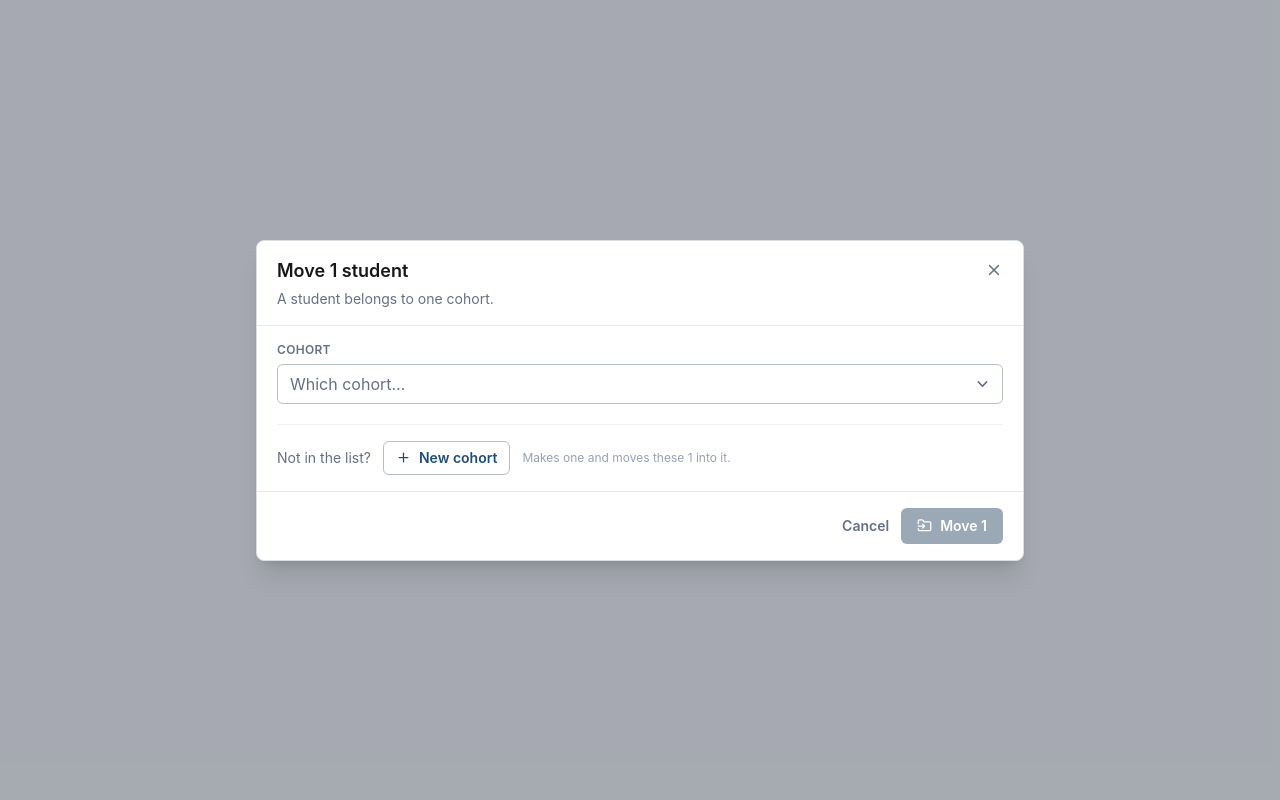
Test: moving students to another cohort › says what the move costs once a cohort with something to lose is chosen
The width and height of the screenshot is (1280, 800).
Step 1. Click the dropdown named "Move to cohort" → click(348, 384), box [277,364,1003,404]
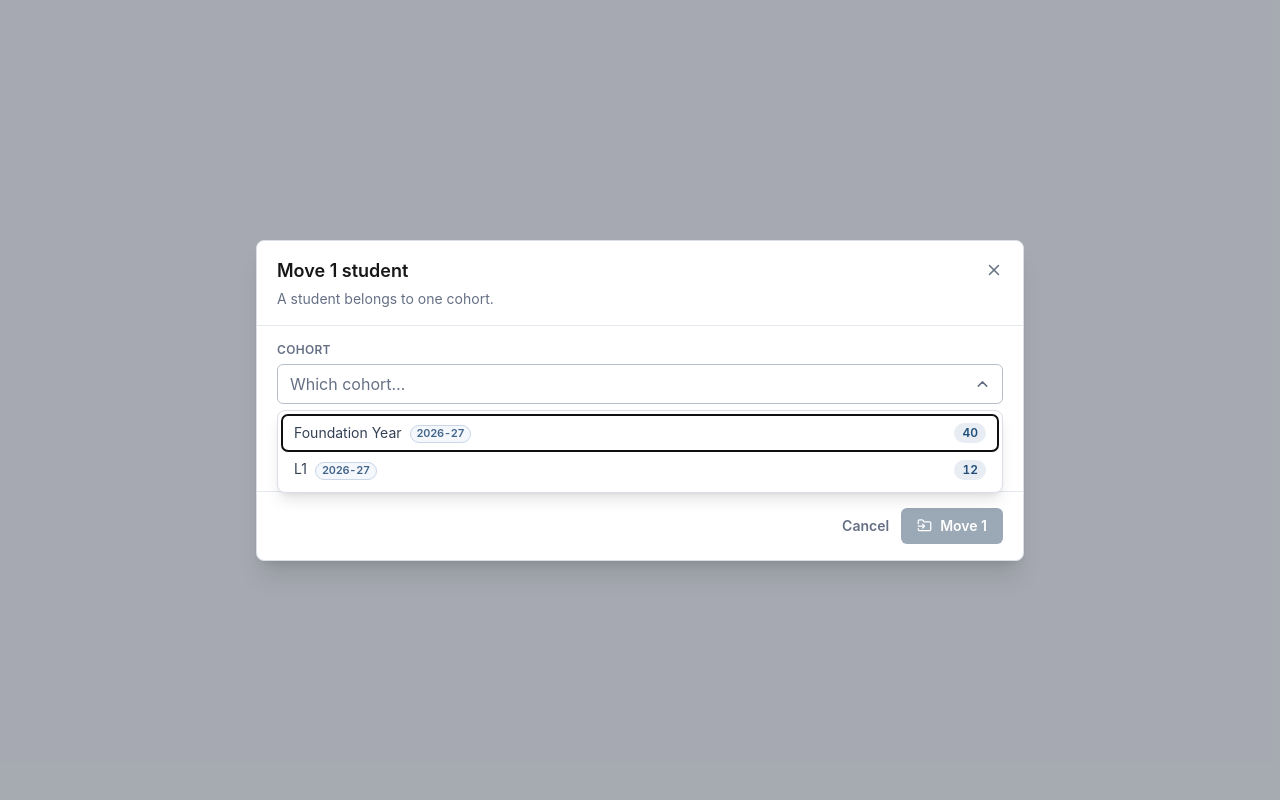
Step 2. Click the option "L1 2026-27 12" → click(346, 471), box [282,451,998,488]
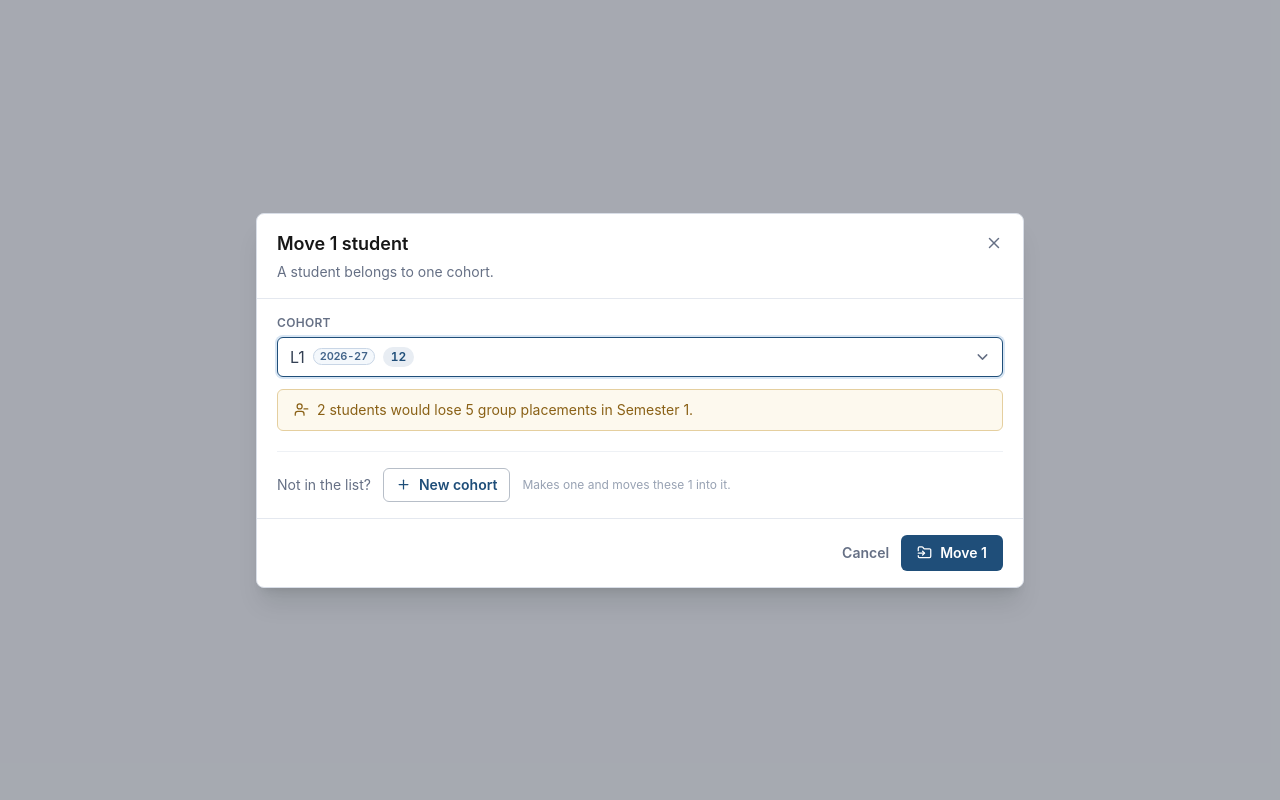
Now the text "2 students would lose 5 group placements in Semester 1." is shown, box [277,388,1003,430]
